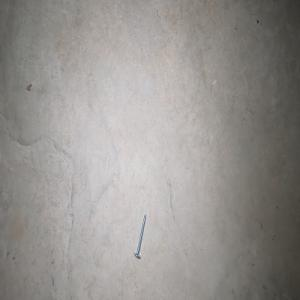Bolt: (133, 212, 146, 258)
